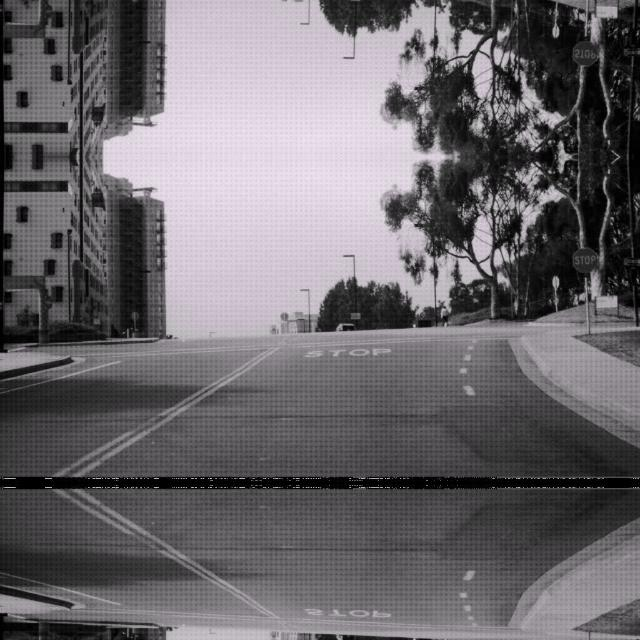stop: (572, 246, 598, 272), (572, 40, 598, 66)
